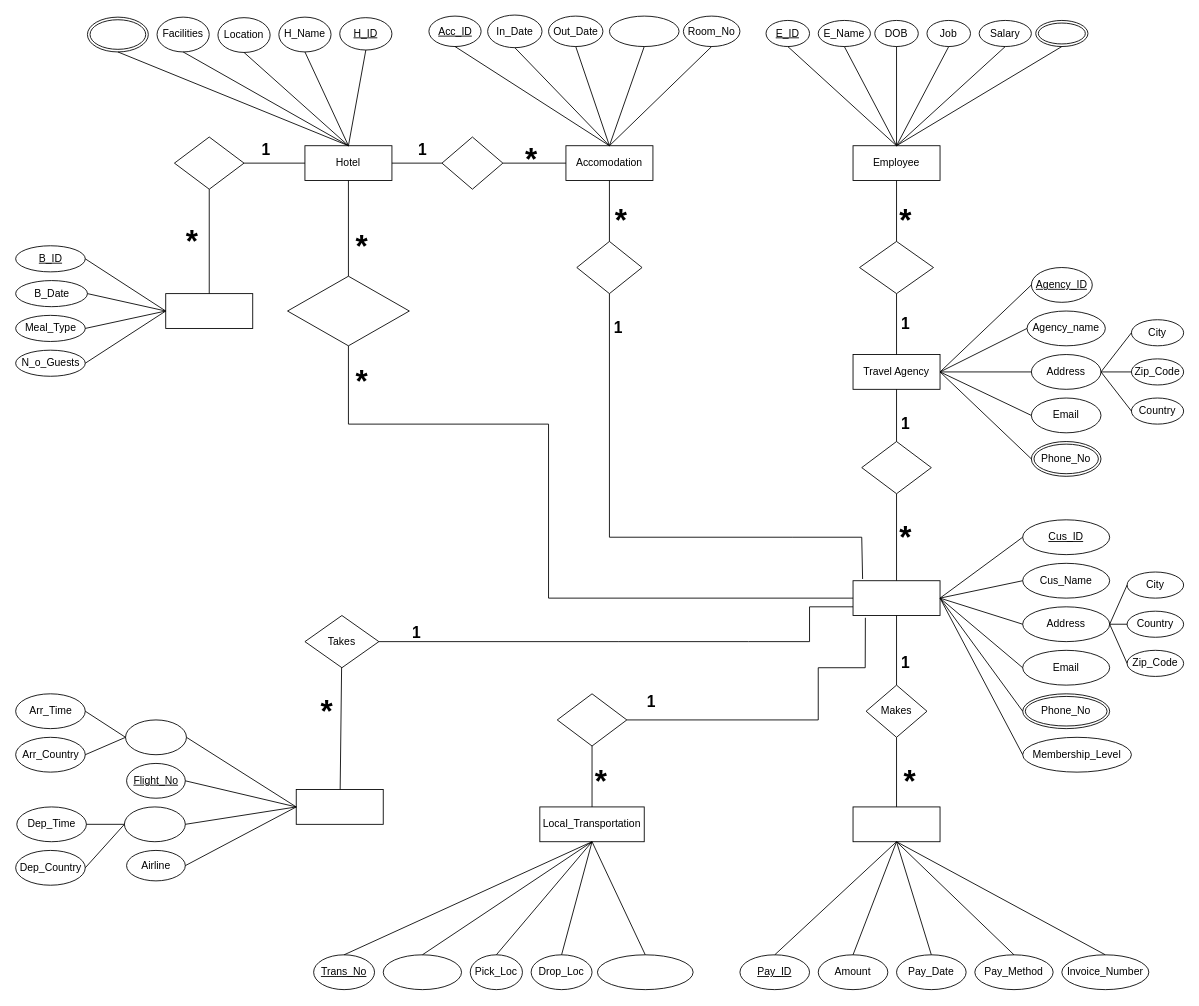
This 1199x1006 diagram has some shape labels left out. The centre of each missing label's shape, as x and y in pixels:
"Arrival" goes at [155,737].
"Booking_Date" goes at [422,972].
"Customer" goes at [896,598].
"Departure" goes at [154,824].
"Flight" goes at [339,806].
"Food_Booking" goes at [209,310].
"Gets" goes at [609,267].
"Makes_Reservation" goes at [348,310].
"Manages" goes at [209,162].
"Mode_of_transport" goes at [645,972].
"Offers" goes at [472,162].
"Payment" goes at [896,824].
"Ratings" goes at [117,34].
"Room_Type" goes at [644,31].
"Services" goes at [896,467].
"Skills" goes at [1061,33].
"Uses" goes at [591,719].
"Works For" goes at [896,267].
